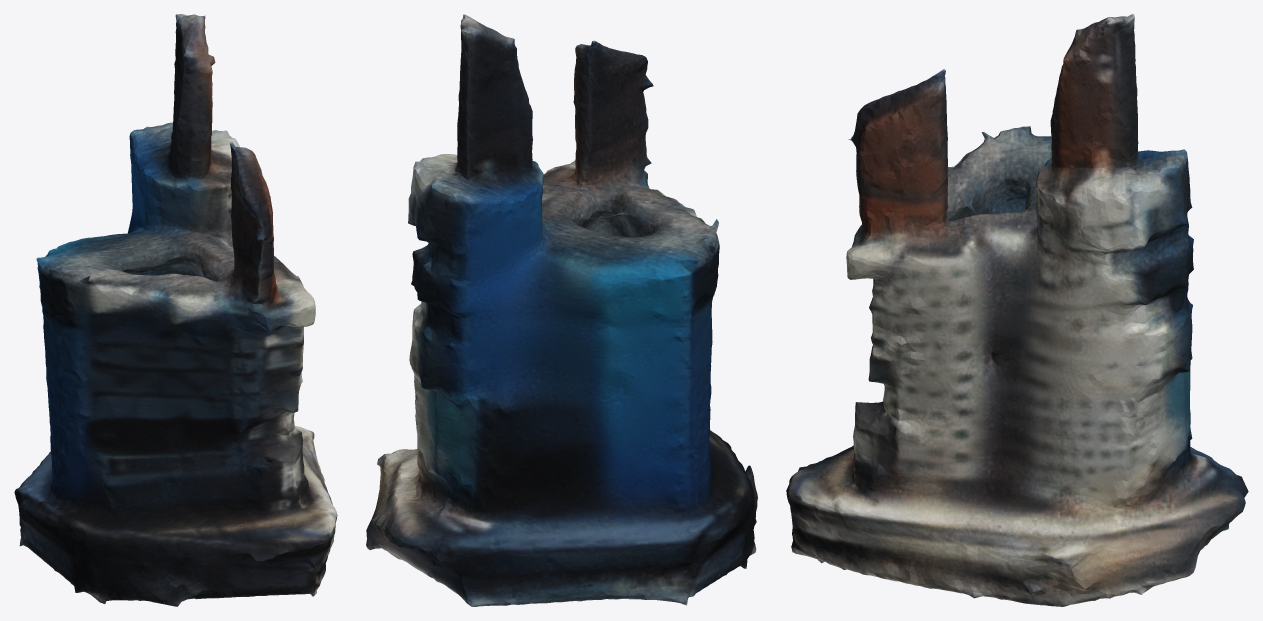
The model's file is nakagin.glb.
3 views of the same model, side by side, from view 1: azimuth 30°, elevation 25°; view 2: azimuth 150°, elevation 25°; view 3: azimuth 270°, elevation 25° (orthographic). The views are drawn at different scales.
Size of the model in its own units: 0.6293 by 0.9815 by 0.7315.
Materials: 1 (1 with a texture image).
